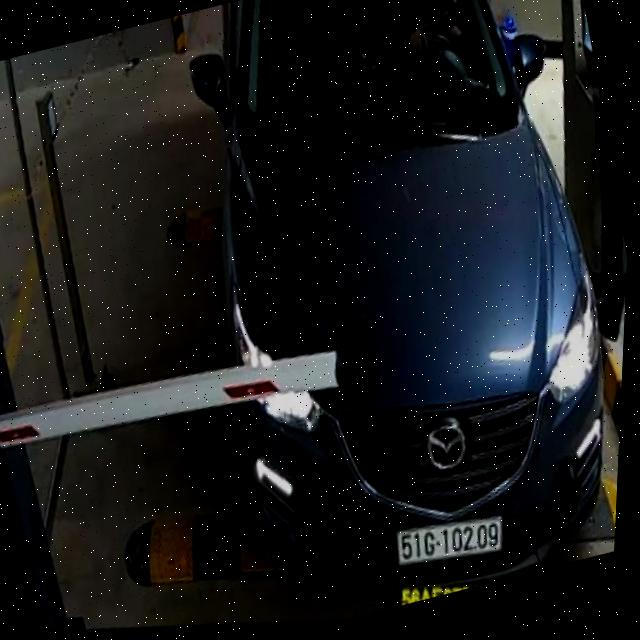car: (134, 0, 640, 633)
plate: (385, 498, 514, 581)
